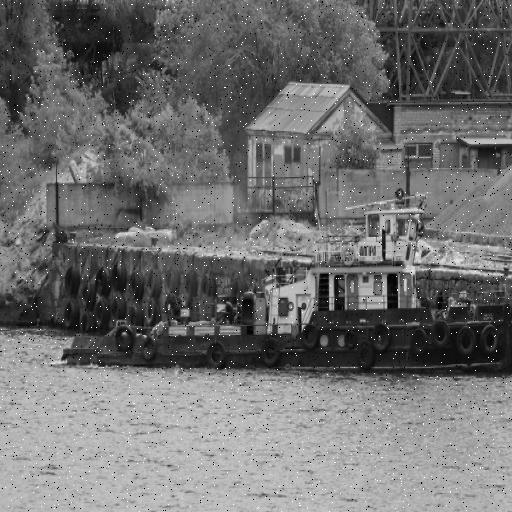tugboat: (59, 187, 512, 383)
